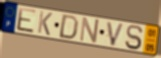D: (57, 13, 80, 40)
E: (16, 7, 38, 35)
K: (36, 10, 54, 37)
N: (78, 16, 101, 45)
S: (124, 24, 144, 51)
V: (106, 20, 126, 48)
